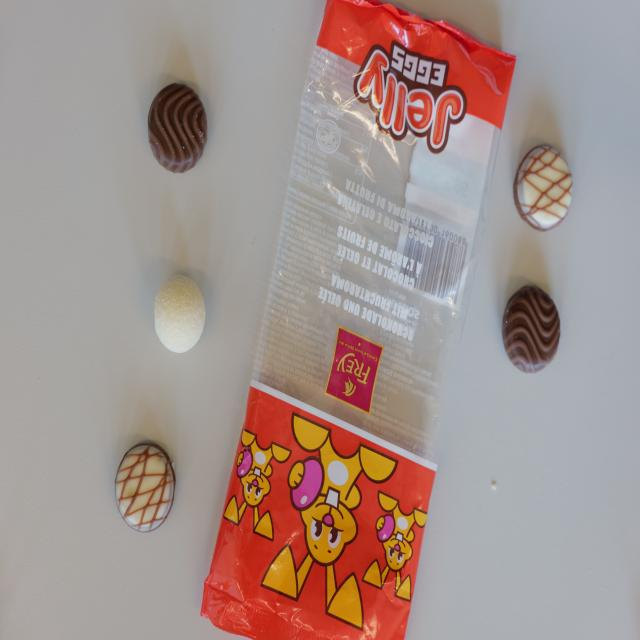Comtesse: (153, 271, 206, 355)
Creme_brulee: (513, 144, 574, 232), (115, 443, 176, 531)
Noir_authentique: (148, 81, 208, 173), (502, 284, 560, 374)
